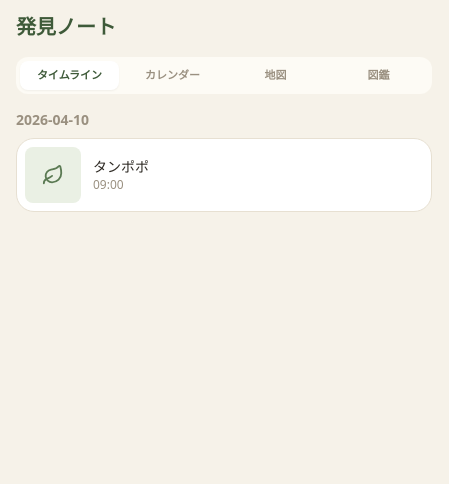
NotebookPage › カレンダータブ押下で CalendarView (カレンダー) を表示する
This screenshot has width=449, height=484.
Click the button "カレンダー" at (172, 75), box [123,61,222,90]
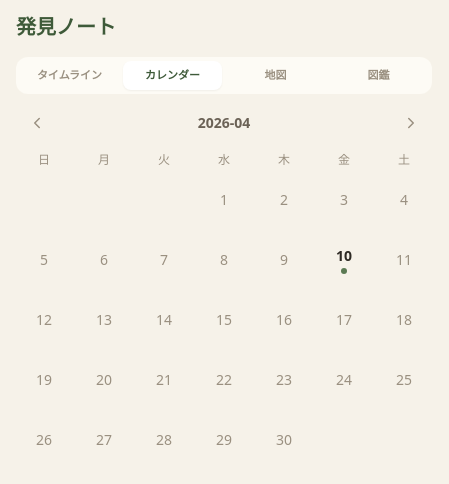
expect the element named "カレンダー" is shown: met
